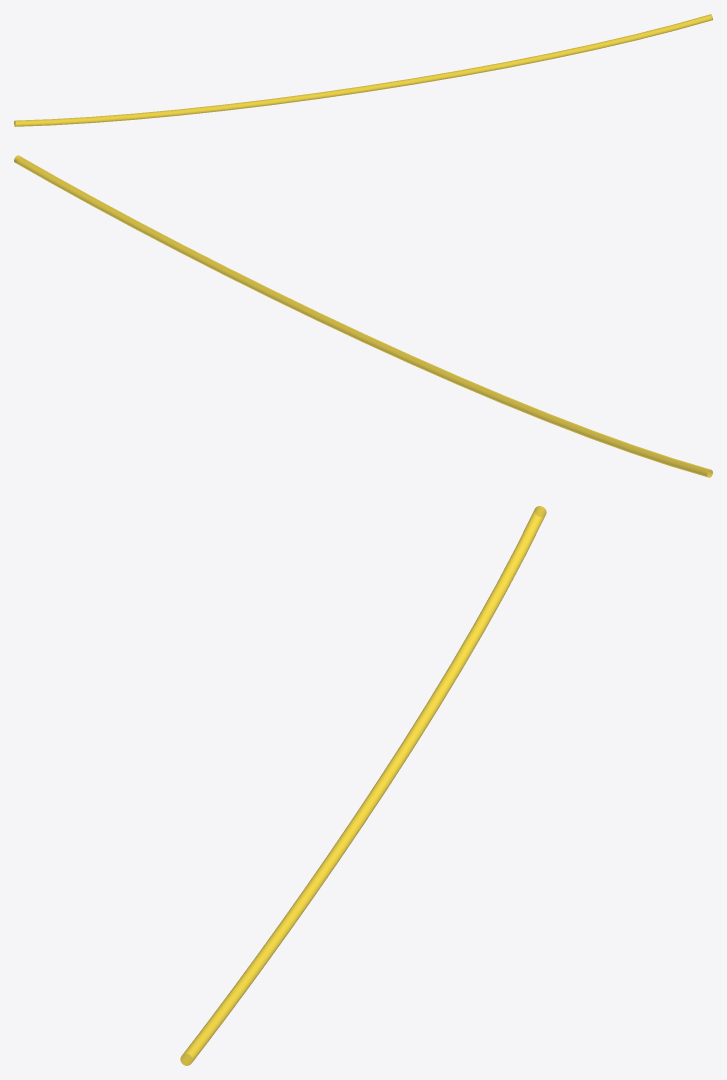
The model's file is Event_75125125_track_113.fbx.
3 views of the same model, one above another, from view 1: azimuth 30°, elevation 25°; view 2: azimuth 150°, elevation 25°; view 3: azimuth 270°, elevation 25° (orthographic). The views are drawn at different scales.
Visible parts, largest first — view 1: Model; view 2: Model; view 3: Model.
Boxes of the visible parts, x1,y1,x2,y2 form: Model: [14, 14, 712, 126]; Model: [14, 155, 712, 477]; Model: [180, 506, 546, 1065].
Size of the model in its own units: 4.47 by 0.2605 by 1.16.
